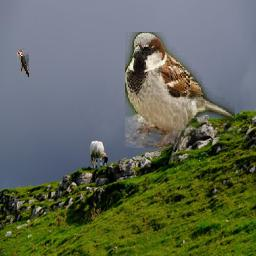Sparrow: (125, 32, 235, 148)
Woodpecker: (17, 48, 29, 78)
